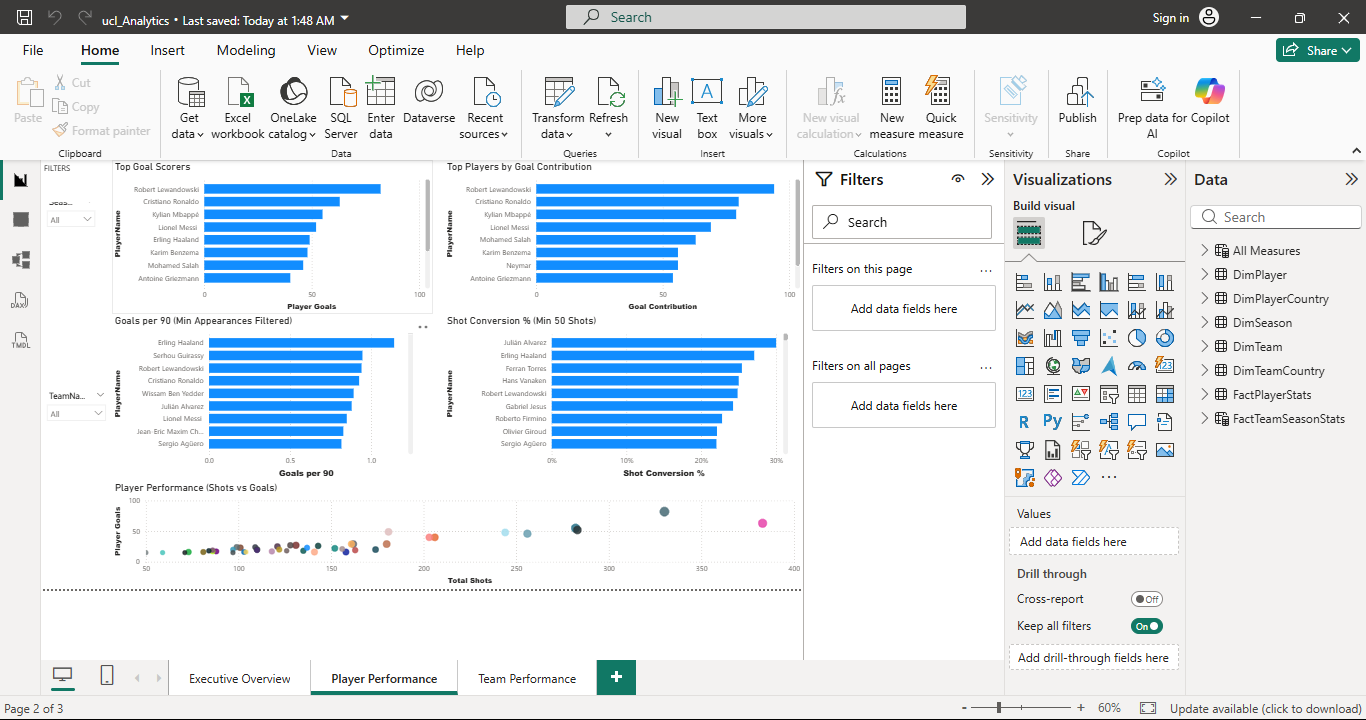

The dashboard page shown, as its layout file describes it:
{"tool":"powerbi","page":{"name":"Player Performance","canvas":[1280,720],"ordinal":1},"visuals":[{"type":"clusteredBarChart","title":"Top Goal Scorers","fields":{"Category":["DimPlayer.PlayerName"],"Y":["All Measures.Player Goals"]},"box":[119.3,0,539.2,258.7],"z":0},{"type":"clusteredBarChart","title":"Top Players by Goal Contribution","fields":{"Y":["All Measures.Goal Contribution"],"Category":["DimPlayer.PlayerName"]},"box":[677,0,603,258.7],"z":1000},{"type":"clusteredBarChart","title":"Goals per 90 (Min Appearances Filtered)","fields":{"Category":["DimPlayer.PlayerName"],"Y":["All Measures.Goals per 90"]},"box":[119.3,258.7,510.7,280.5],"z":2000},{"type":"barChart","title":"Shot Conversion % (Min 50 Shots)","fields":{"Category":["DimPlayer.PlayerName"],"Y":["All Measures.Shot Conversion %"]},"box":[677,258.7,582.9,280.5],"z":3000},{"type":"scatterChart","title":"Player Performance (Shots vs Goals)","fields":{"X":["All Measures.Player Shots"],"Size":["All Measures.Goal Contribution"],"Y":["All Measures.Player Goals"],"Series":["DimPlayer.PlayerName"]},"box":[119.3,539.2,1160.7,179.7],"z":4000},{"type":"slicer","fields":{"Values":["DimSeason.SeasonName"]},"box":[0,57.1,100.8,325.9],"z":4001},{"type":"slicer","fields":{"Values":["DimTeam.TeamName"]},"box":[0,383,119.3,336],"z":4002},{"type":"textbox","box":[0,0,119.3,70.6],"z":4003}]}

Visuals, with their boxes on the page's 1280x720 design canvas (x1, y1, x2, y2). These are canvas units, not pixel positions in the 1366x720 screenshot, which may show the page scaled, cropped or inside an application window:
"Top Goal Scorers" clusteredBarChart: [119, 0, 658, 259]
"Top Players by Goal Contribution" clusteredBarChart: [677, 0, 1280, 259]
"Goals per 90 (Min Appearances Filtered)" clusteredBarChart: [119, 259, 630, 539]
"Shot Conversion % (Min 50 Shots)" barChart: [677, 259, 1260, 539]
"Player Performance (Shots vs Goals)" scatterChart: [119, 539, 1280, 719]
slicer - DimSeason.SeasonName: [0, 57, 101, 383]
slicer - DimTeam.TeamName: [0, 383, 119, 719]
textbox: [0, 0, 119, 71]
